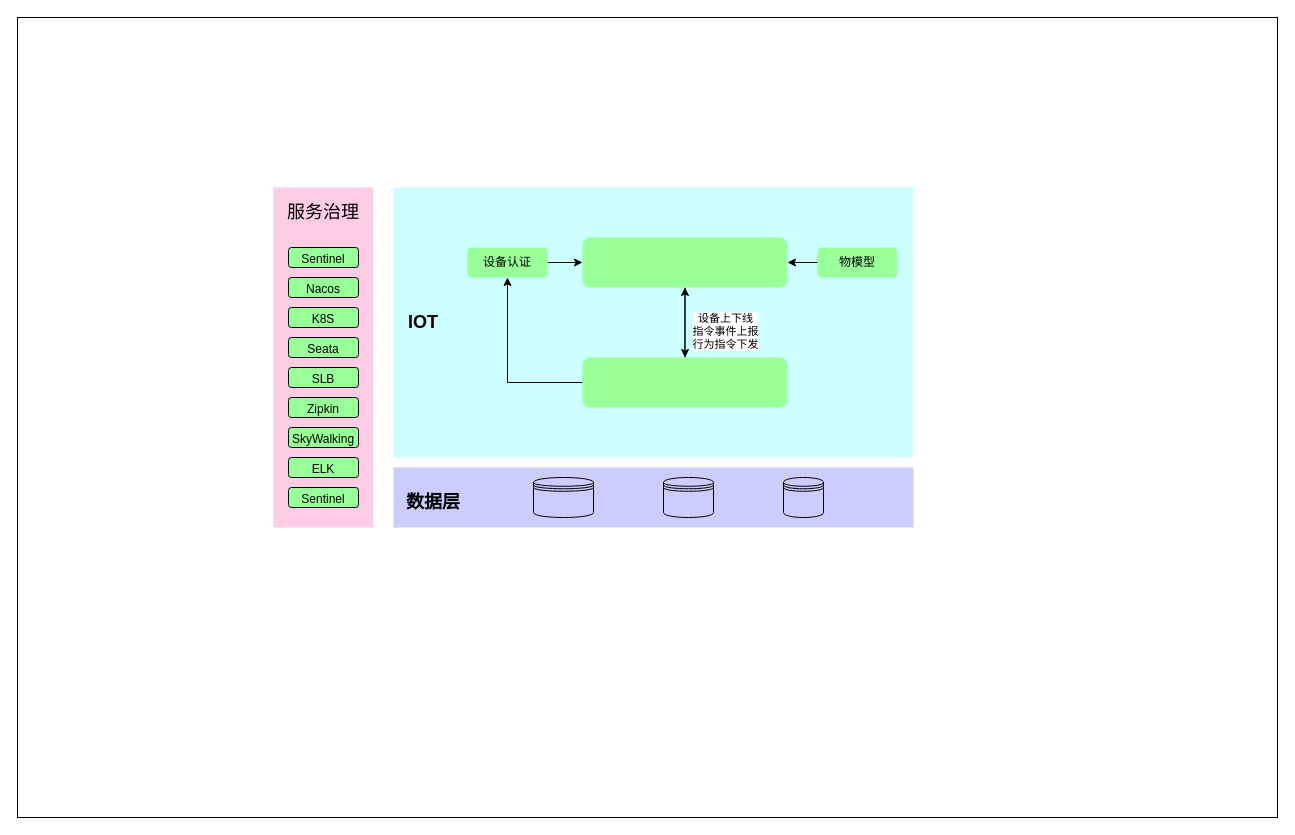
The diagram is 1295 pixels wide and 835 high, and some of its shapes have lost their labels. Here are the shapes that lost their labels. From the top down, the centre of each, then its label:
At point (684, 262): "设备影子".
At point (684, 382): "设备接入网关".
At point (563, 497): "mongodb".
At point (688, 497): "influxdb".
At point (803, 497): "redis".
